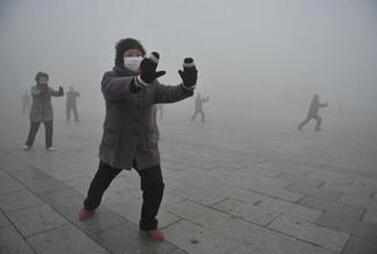person: (77, 37, 198, 242), (22, 72, 64, 151), (297, 94, 329, 131), (189, 92, 210, 123), (65, 86, 81, 123), (149, 91, 164, 121), (20, 89, 32, 116)
